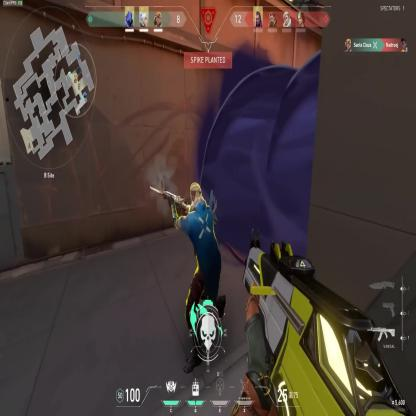enemy: (169, 180, 227, 375)
enemy_head: (189, 182, 202, 209)
